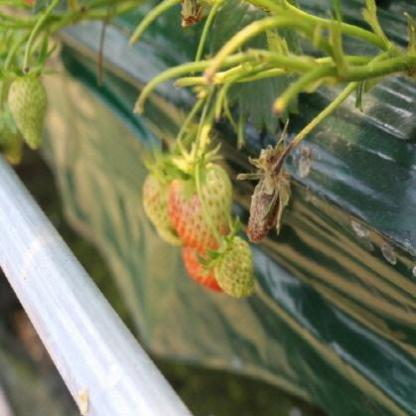Strawberry_Gray_Mold: (236, 137, 296, 244)
